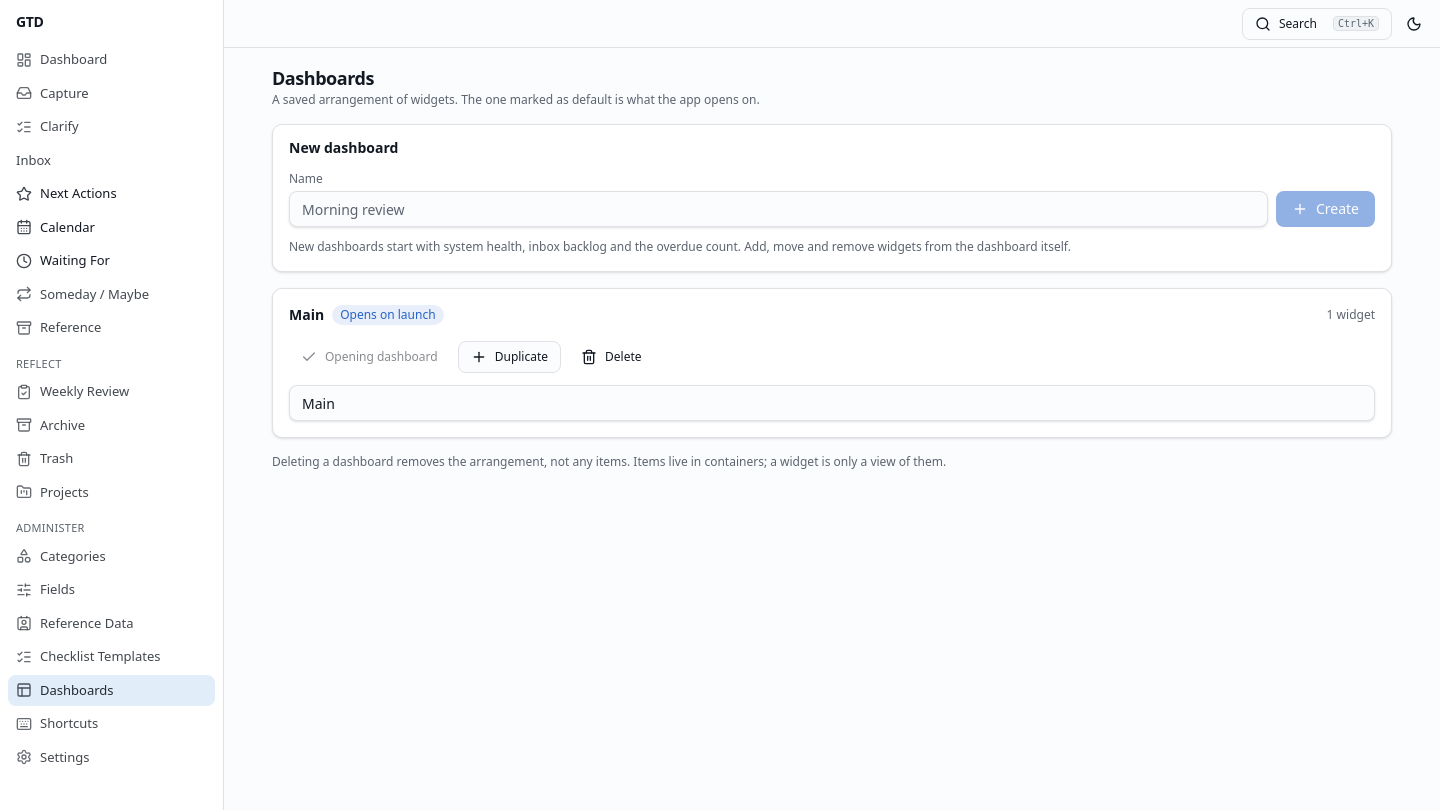
Test: managing dashboards › puts the name back rather than saving an empty one
The image size is (1440, 810).
Step 1. Clear the field named "Rename Main" → coordinates (832, 403), box top-left (289, 385), bottom-right (1375, 421)
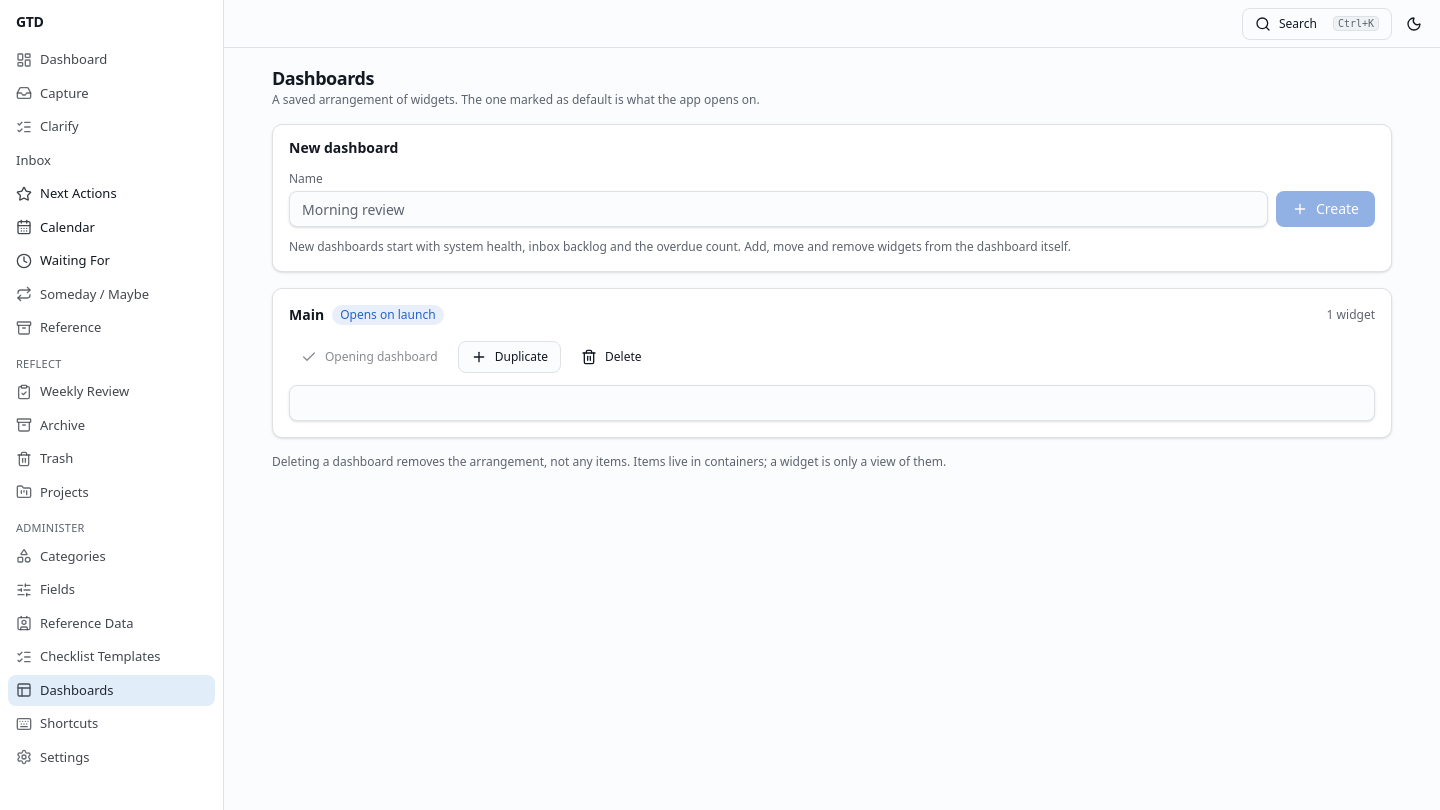
Step 2. Press Tab
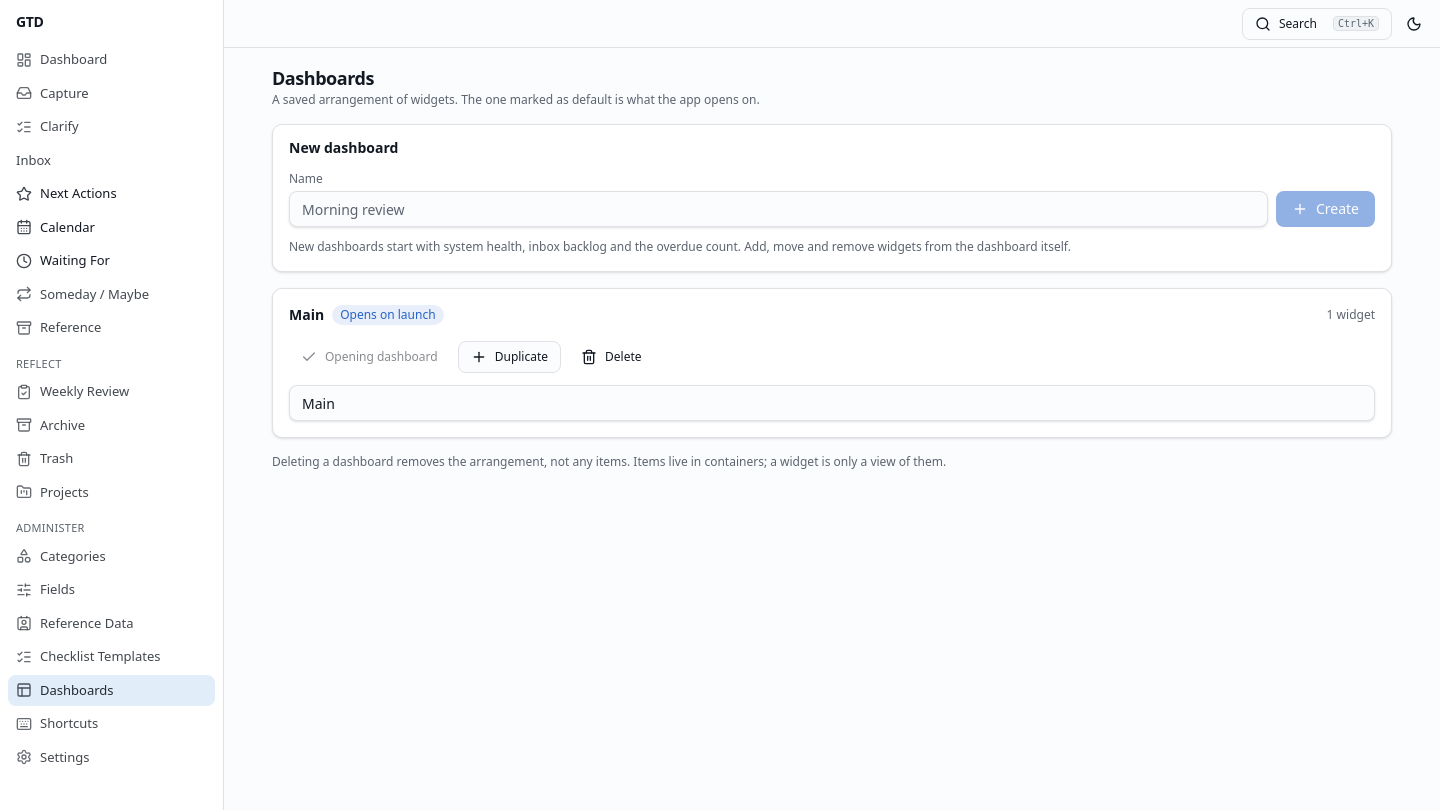
Now the field named "Rename Main" holds "Main", box top-left (289, 385), bottom-right (1375, 421)
